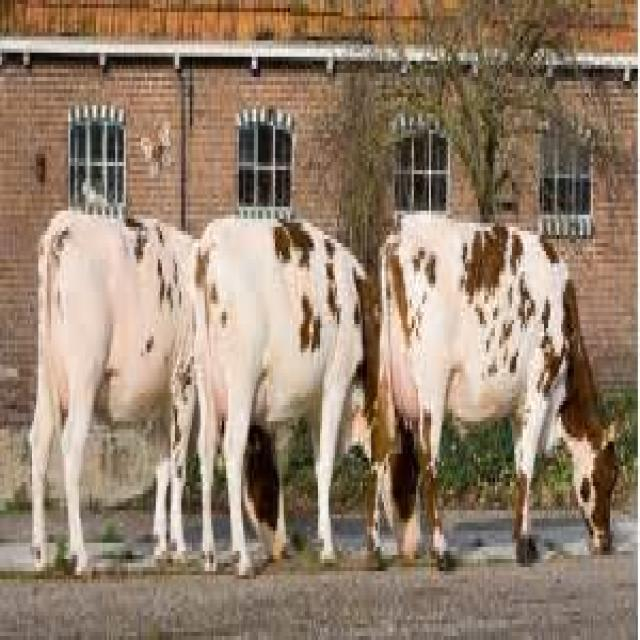cow: (378, 215, 617, 567), (173, 219, 367, 571), (28, 211, 198, 579)
